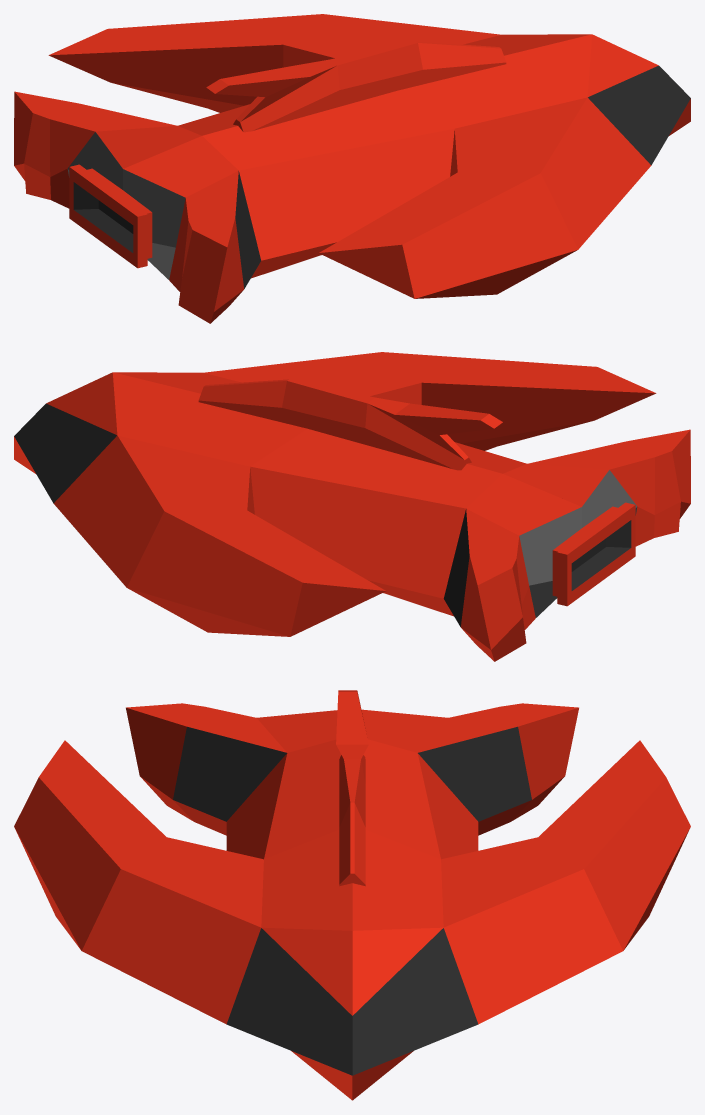
File: Pet_AirPlane.fbx
The picture shows the model from 3 angles, top to bottom: view 1: azimuth 30°, elevation 25°; view 2: azimuth 150°, elevation 25°; view 3: azimuth 270°, elevation 25°; orthographic projection. The views are drawn at different scales.
Visible parts, largest first — view 1: Cube; view 2: Cube; view 3: Cube.
Boxes of the visible parts, box(x1,y1,x2,y2) form: Cube: box(14, 14, 690, 323); Cube: box(14, 352, 690, 661); Cube: box(14, 690, 690, 1100).
Bounding box in the file's own units: 98.28 × 27.34 × 91.98.
